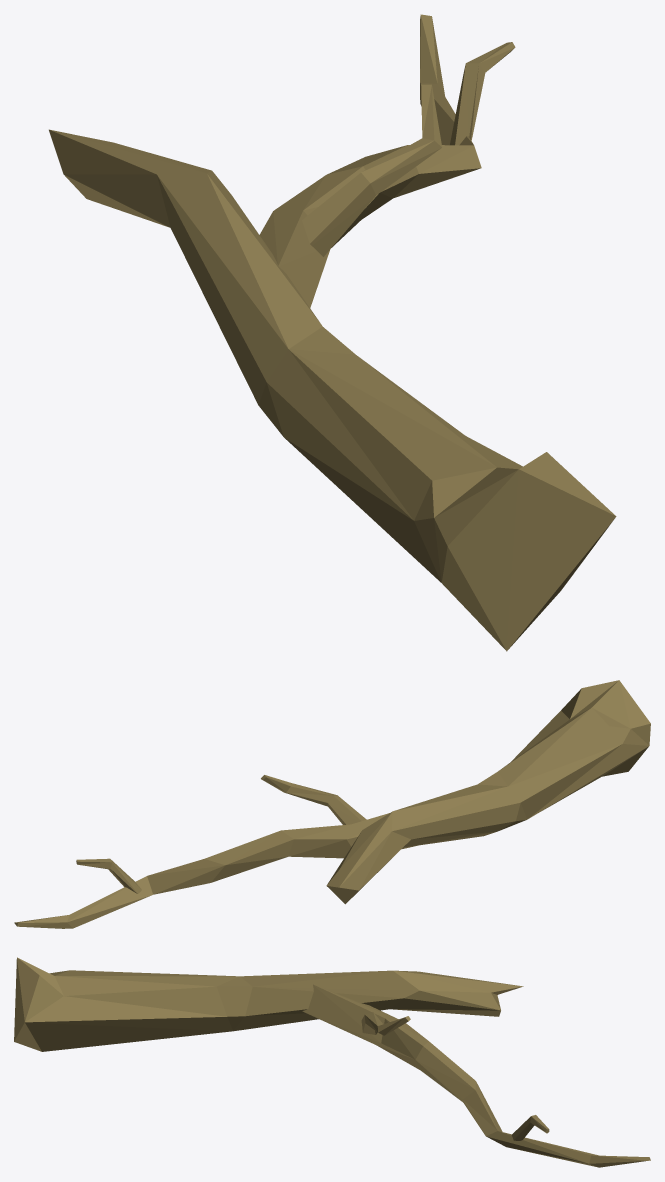
Rendered from LowPoly - Trunk 01.fbx.
The picture shows the model from 3 angles, top to bottom: view 1: azimuth 30°, elevation 25°; view 2: azimuth 150°, elevation 25°; view 3: azimuth 270°, elevation 25°; orthographic projection. The views are drawn at different scales.
Parts seen in each view (by area): view 1: LowPoly - Trunk 01; view 2: LowPoly - Trunk 01; view 3: LowPoly - Trunk 01.
Boxes of the visible parts, bbox=[...] form: LowPoly - Trunk 01: bbox=[49, 14, 616, 651]; LowPoly - Trunk 01: bbox=[14, 680, 650, 928]; LowPoly - Trunk 01: bbox=[14, 957, 650, 1167].
Size of the model in its own units: 367 by 117 by 661.
